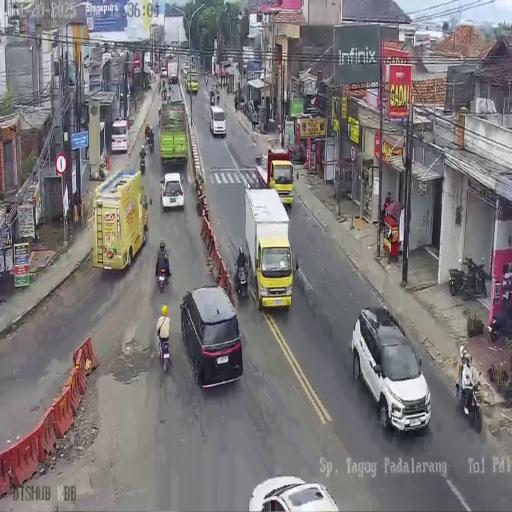3: (244, 186, 290, 308), (160, 98, 188, 167), (166, 58, 178, 84), (160, 61, 167, 78), (183, 65, 189, 81)
car: (351, 307, 429, 433), (180, 287, 243, 389), (248, 474, 341, 510), (269, 158, 294, 209), (160, 170, 184, 212), (111, 116, 130, 154), (210, 105, 226, 138), (186, 74, 198, 94)
truck: (455, 357, 482, 427), (449, 254, 485, 298), (488, 302, 511, 342), (157, 325, 173, 374), (156, 260, 170, 293), (148, 130, 154, 151), (241, 98, 248, 116), (140, 154, 146, 174), (210, 89, 216, 105), (162, 89, 167, 102), (204, 74, 208, 86), (158, 108, 161, 124), (216, 88, 219, 104)
